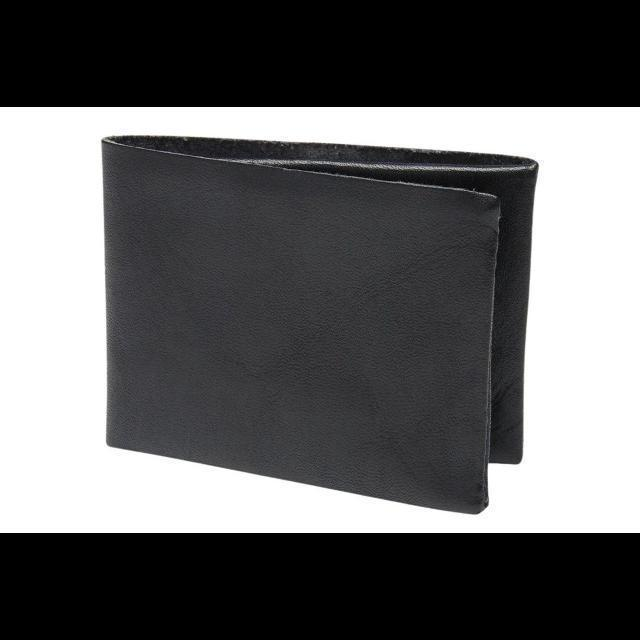wallet: (97, 132, 539, 514)
